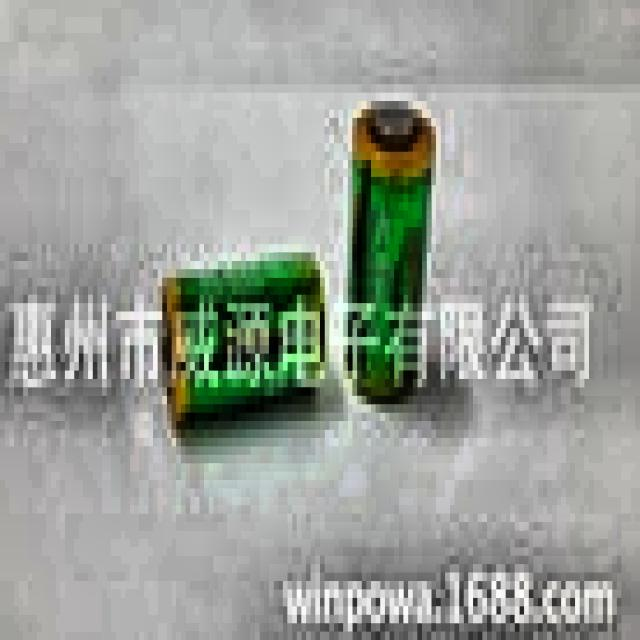Non-Valuable Waste - Batteries: (163, 254, 325, 424), (349, 105, 435, 398)
